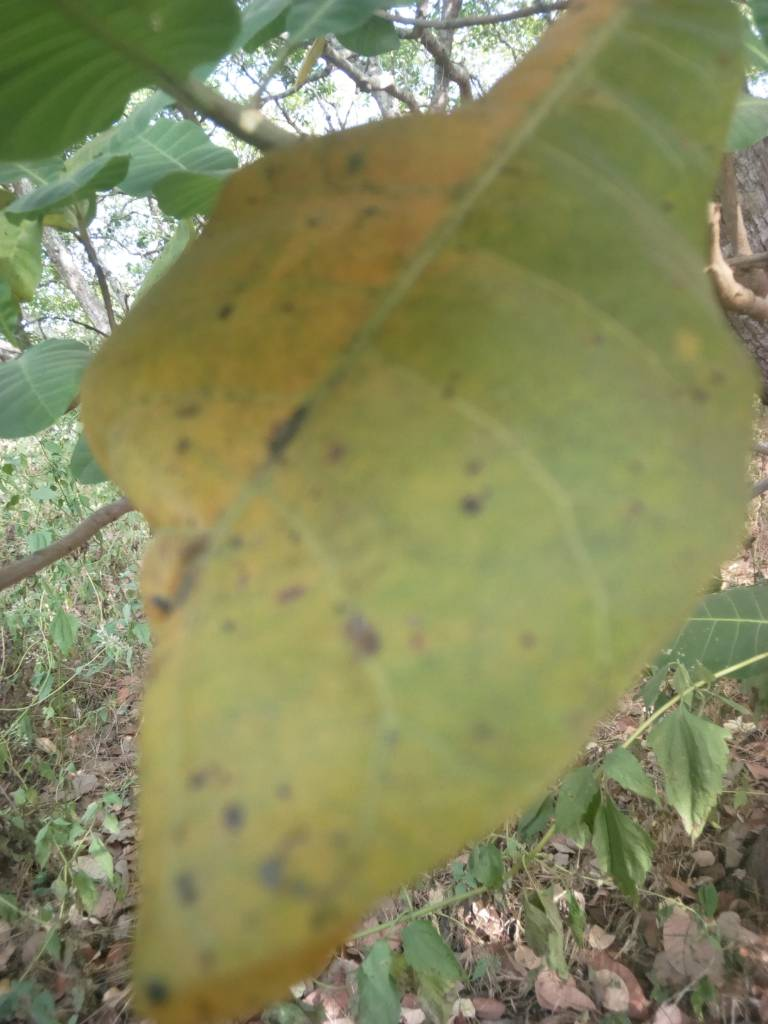Pestalotiose: (122, 28, 724, 1019)
